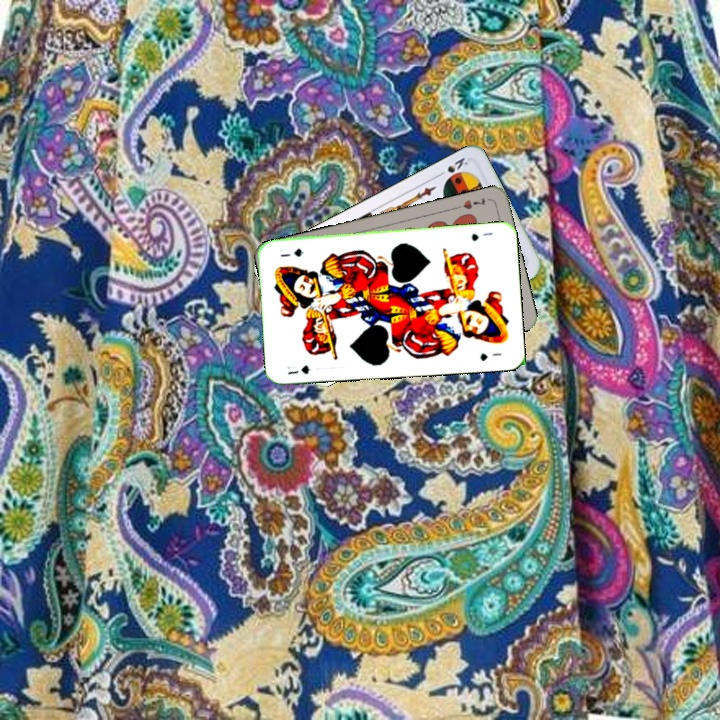GU: (284, 361, 313, 377), (468, 228, 495, 243)
H7: (452, 194, 489, 212)
SK: (433, 153, 471, 183)
